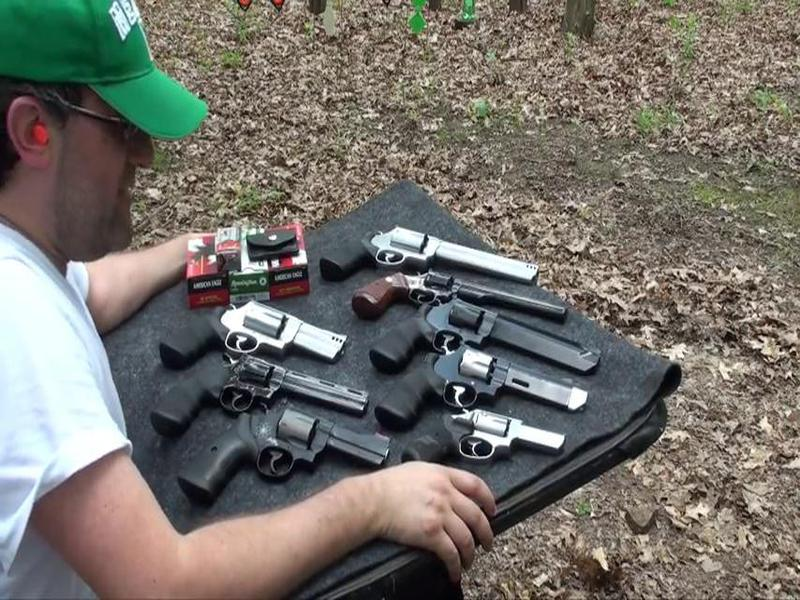Revolver: (147, 296, 356, 384)
